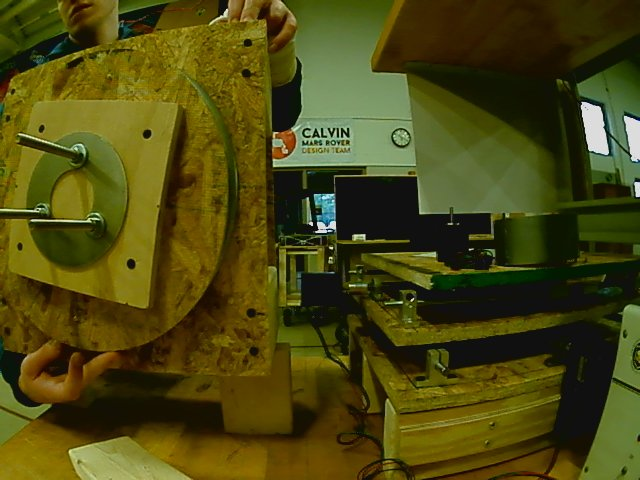bolt: (83, 212, 106, 241), (67, 142, 89, 170), (34, 201, 52, 229)
